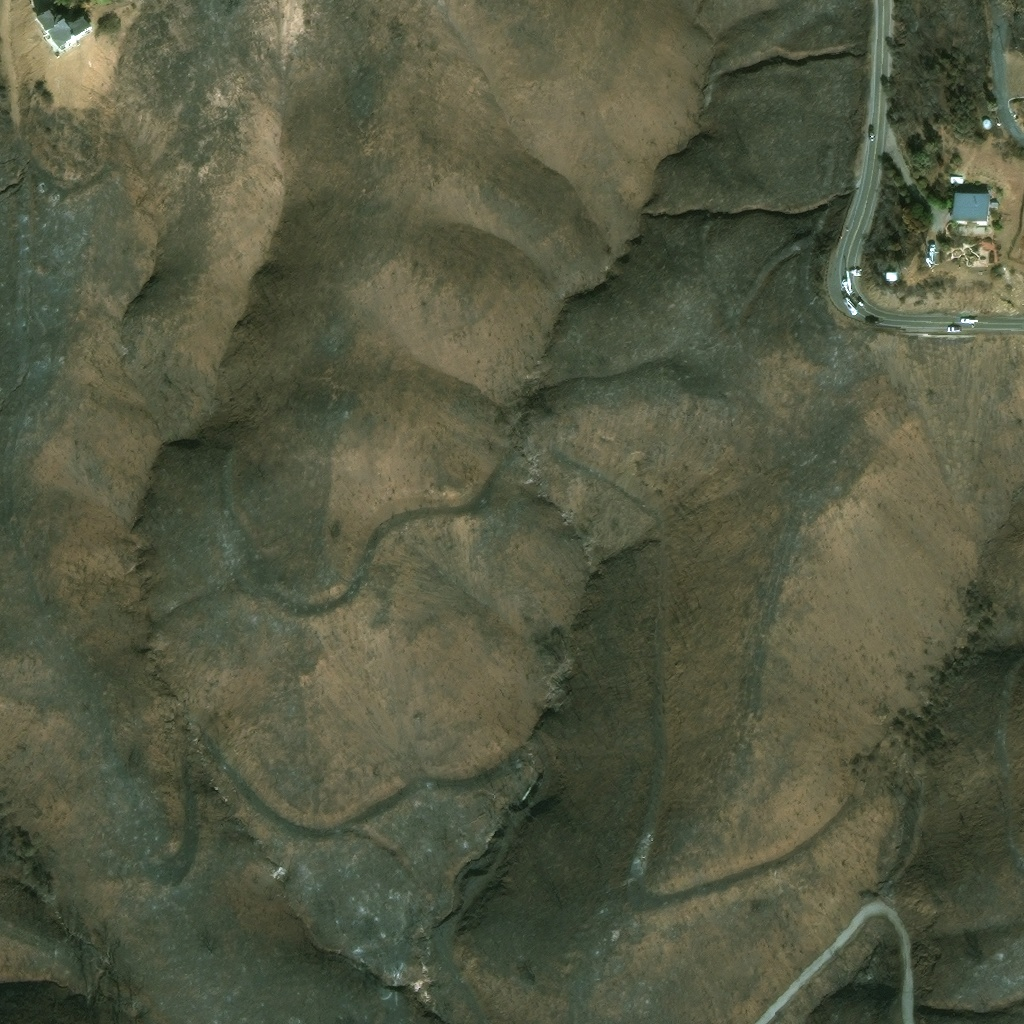0 no-damage: (33, 6, 92, 52), (952, 188, 990, 222), (950, 173, 963, 181), (885, 269, 897, 277), (982, 116, 991, 126), (991, 199, 997, 206)
